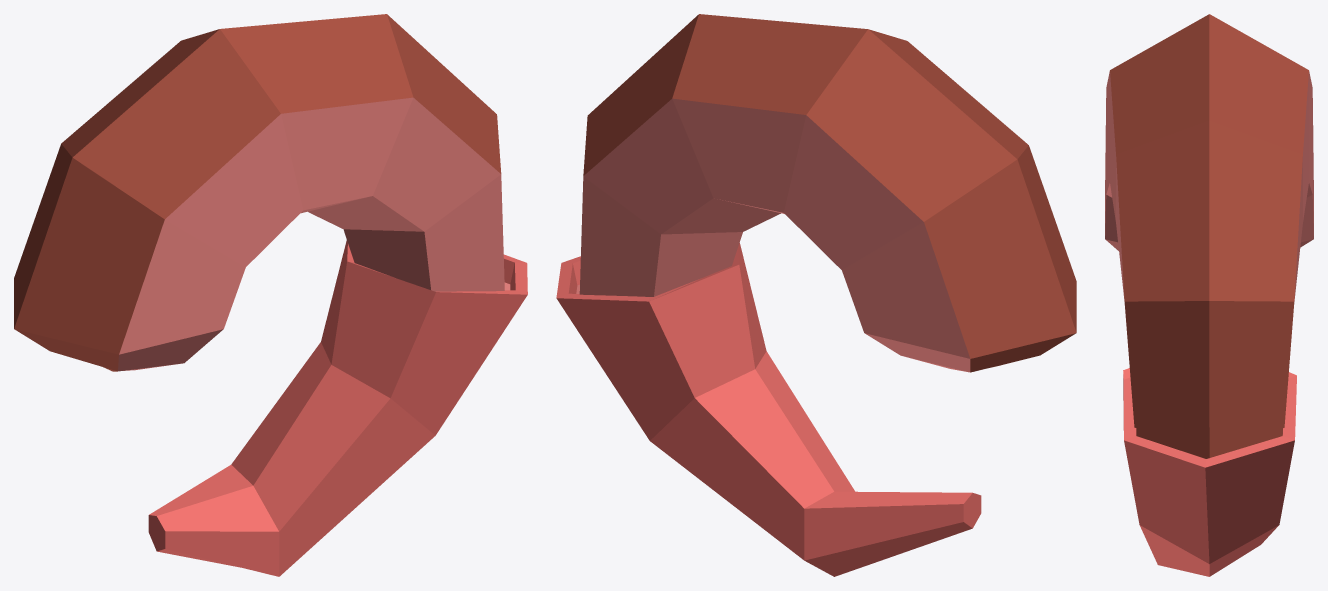
Rendered from Shrimp_01.fbx.
3 renders of one model, left to right at view 1: azimuth 30°, elevation 25°; view 2: azimuth 150°, elevation 25°; view 3: azimuth 270°, elevation 25°, orthographic.
Parts seen in each view (by area): view 1: Shrimp_01; view 2: Shrimp_01; view 3: Shrimp_01.
Boxes of the visible parts, left/top/right/bottom form: Shrimp_01: left=14, top=14, right=527, bottom=576; Shrimp_01: left=556, top=14, right=1076, bottom=576; Shrimp_01: left=1105, top=14, right=1313, bottom=576.
Bounding box in the file's own units: 4.68 × 4.8 × 1.66.
